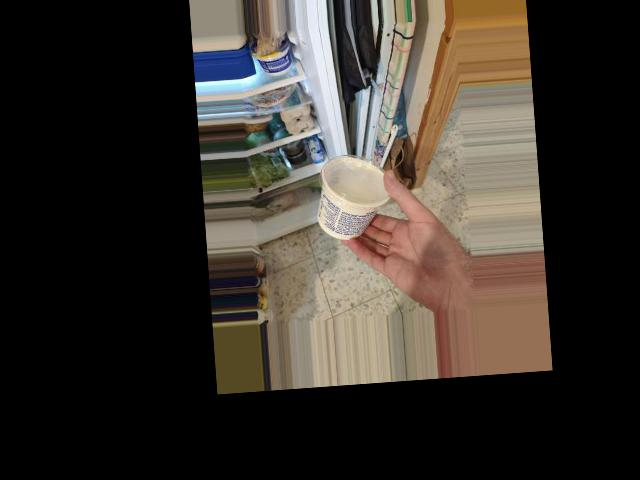cotage: (319, 153, 389, 244)
